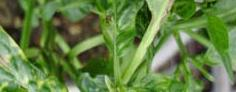Tomato leaf mosaic virus: (0, 3, 80, 92), (100, 0, 145, 57), (127, 68, 187, 92)
